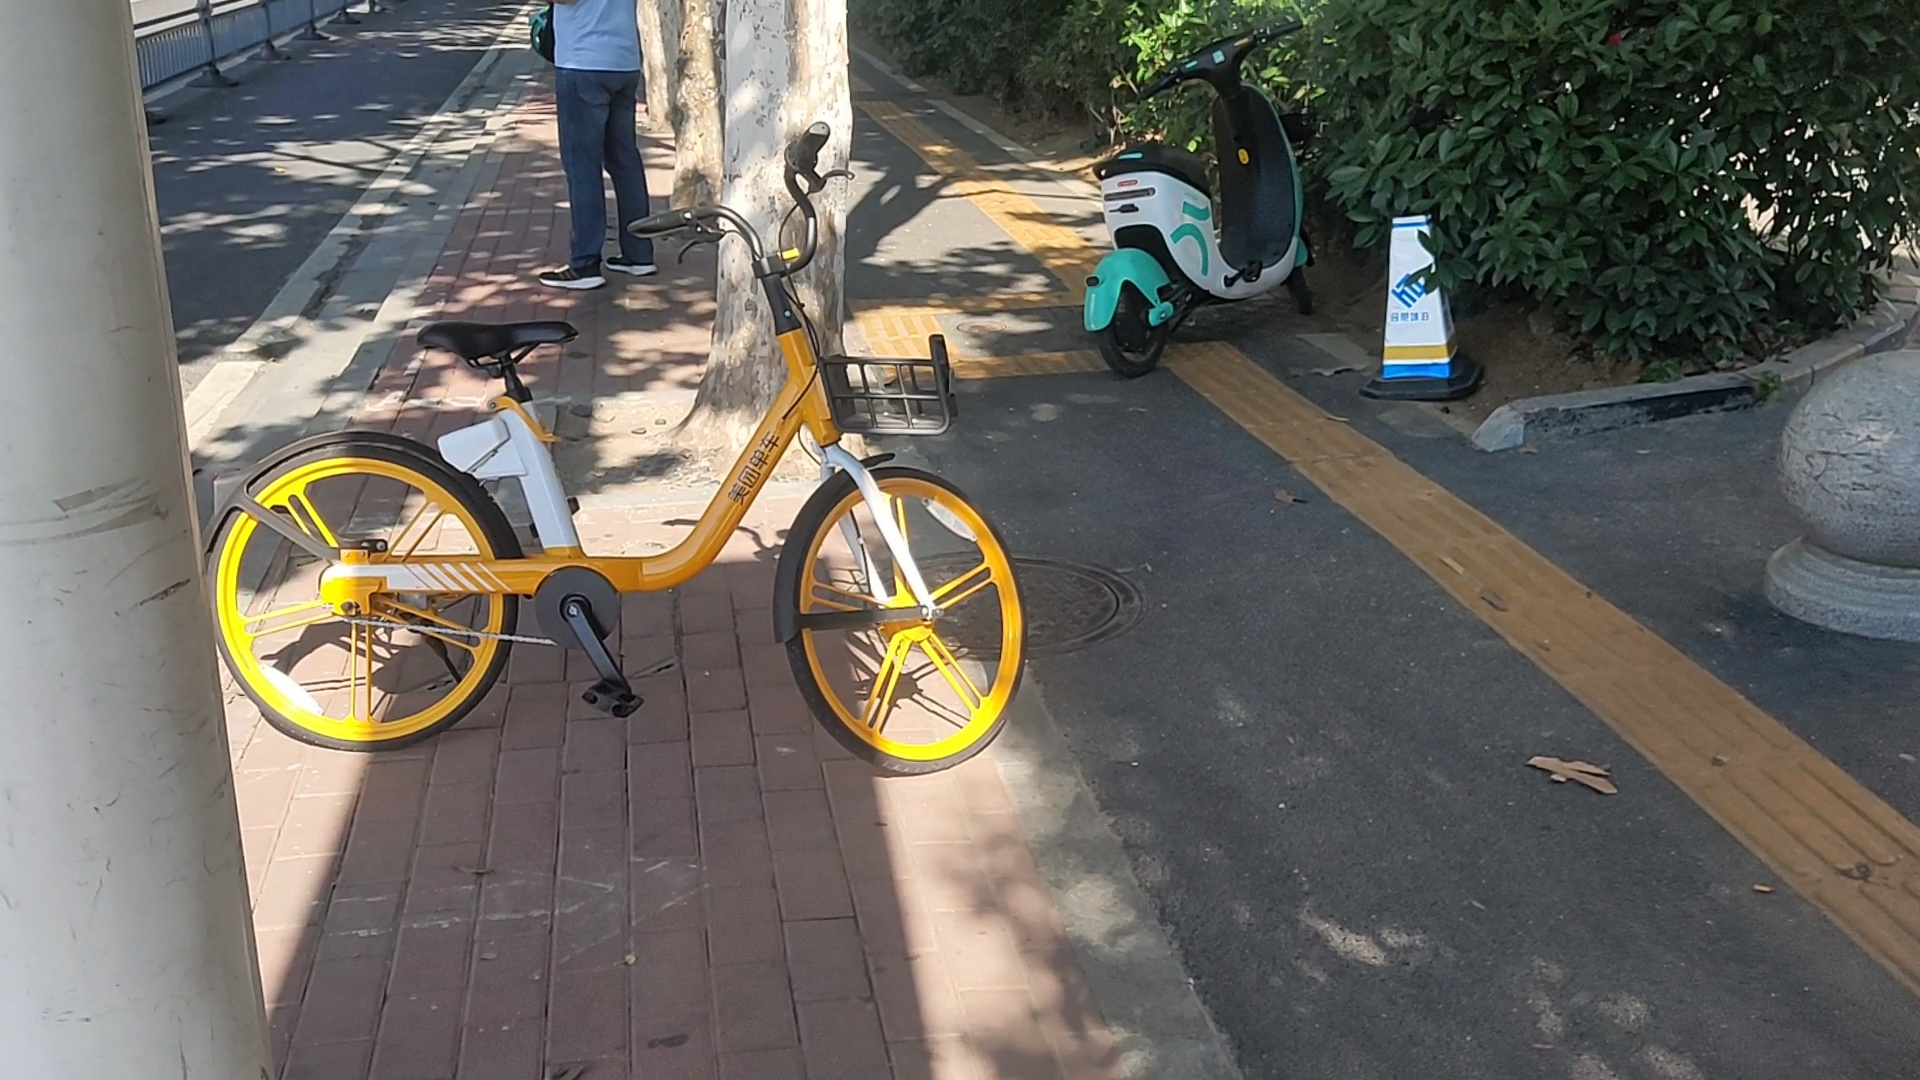non-vehicle: (203, 162, 1036, 781), (1076, 17, 1313, 377)
